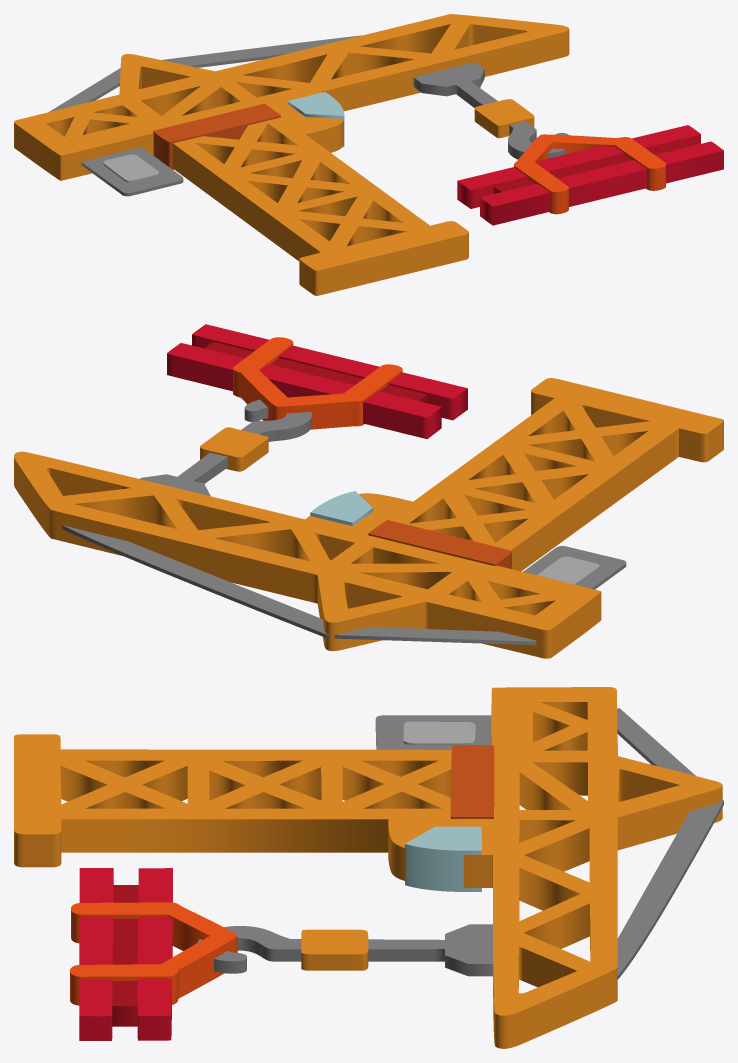
Rendered from emoji_u1f3d7.glb.
The picture shows the model from 3 angles, top to bottom: view 1: azimuth 30°, elevation 25°; view 2: azimuth 150°, elevation 25°; view 3: azimuth 270°, elevation 25°; orthographic projection. The views are drawn at different scales.
Visible parts, largest first — view 1: emoji_u1f3d7; view 2: emoji_u1f3d7; view 3: emoji_u1f3d7.
Boxes of the visible parts, x1,y1,x2,y2 form: emoji_u1f3d7: (14,14,723,295); emoji_u1f3d7: (14,324,723,658); emoji_u1f3d7: (14,687,723,1048).
Bounding box in the file's own units: 0.0341 × 0.002 × 0.0311.
